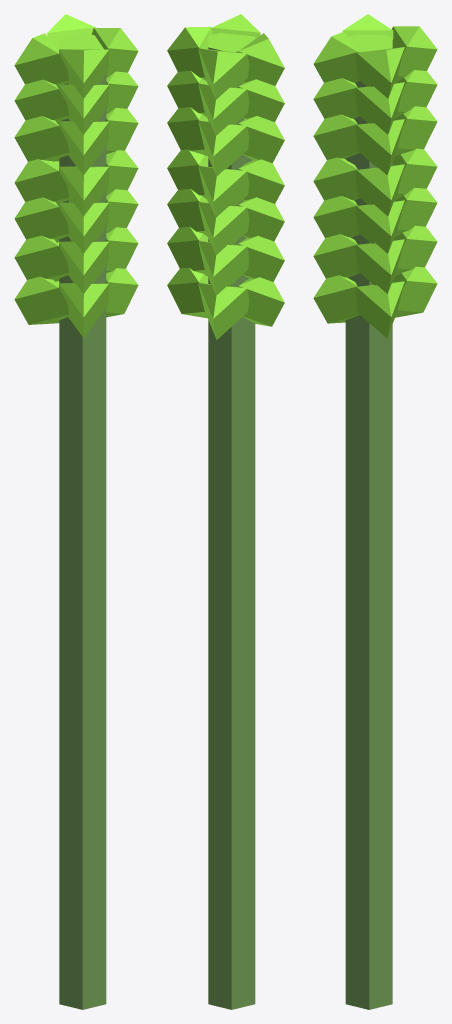
Rendered from Grain_V1.fbx.
3 renders of one model, left to right at view 1: azimuth 90°, elevation 25°; view 2: azimuth 150°, elevation 25°; view 3: azimuth 270°, elevation 25°, orthographic.
Parts seen in each view (by area): view 1: pSphere14; view 2: pSphere14; view 3: pSphere14.
Part boxes in pixels (x1,y1,x2,y2): pSphere14: (14,14,138,1009); pSphere14: (167,14,284,1009); pSphere14: (313,14,437,1009).
Size of the model in its own units: 0.0722 by 0.6285 by 0.0732.
